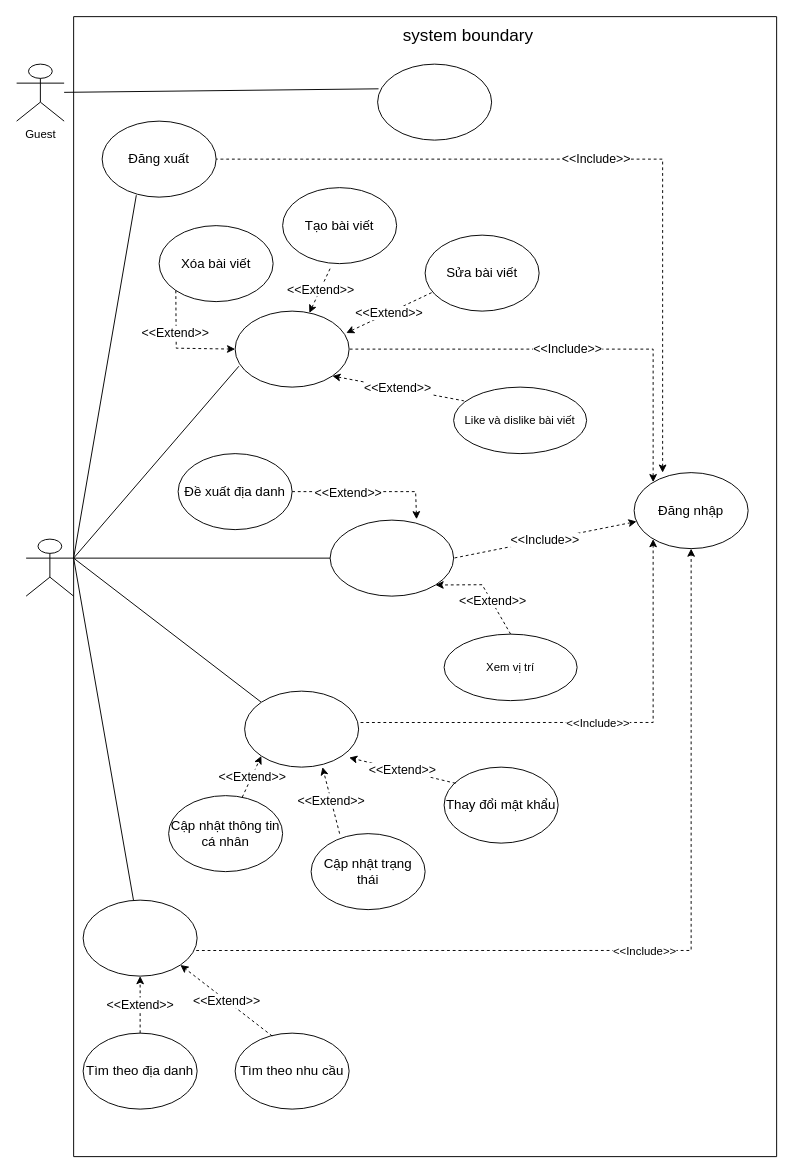
The diagram is 793 pixels wide and 1173 high, and some of its shapes have lost their labels. The centre of each missing label's shape, as x and y in pixels:
"Quản lý bài viết" belongs at [291,348].
"Quản lý thông tin cá nhân" belongs at [301,728].
"Quản lý địa danh" belongs at [391,557].
"Tìm kiếm thông tin" belongs at [139,937].
"User" belongs at [49,567].
"Đăng ký" belongs at [434,101].
